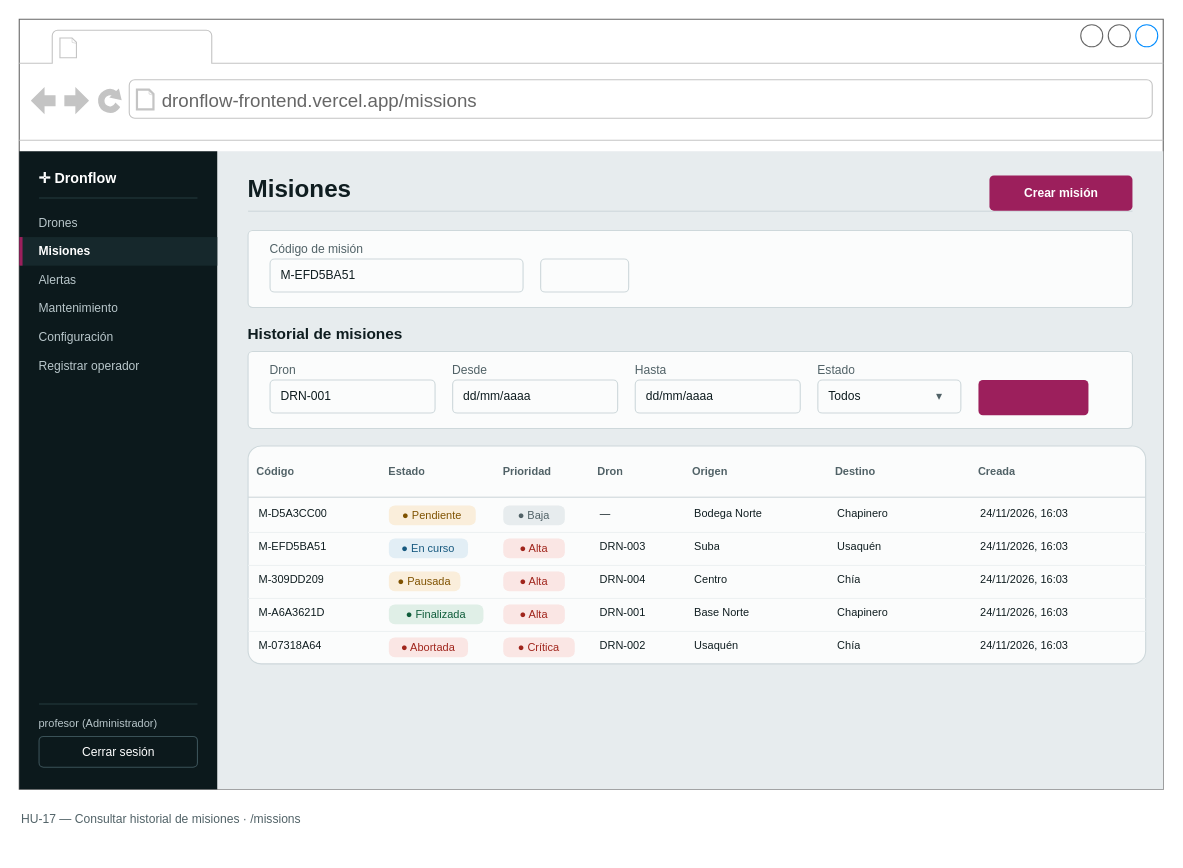
Some shapes in this 1183 by 868 pixel diagram are drawn without their labels. Here are the shapes that lost their labels. From the top down, the centre of each, then its label:
point (584, 275): Abrir
point (1033, 397): Consultar
